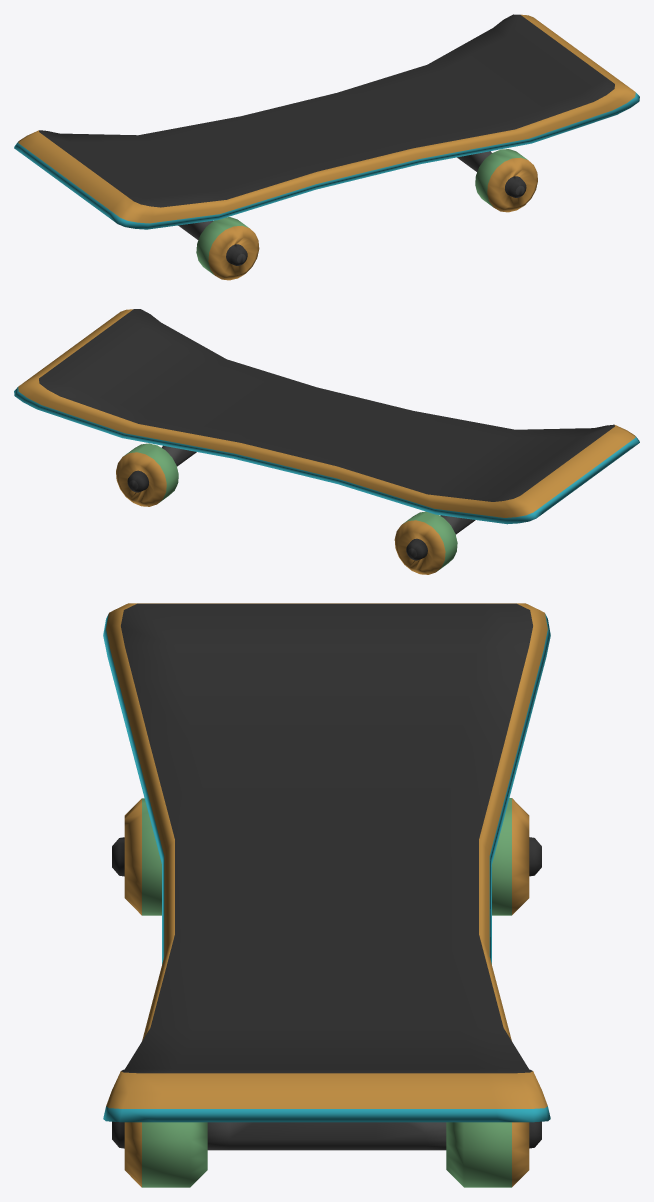
The model's file is SkateboardNew.fbx.
3 renders of one model, top to bottom at view 1: azimuth 30°, elevation 25°; view 2: azimuth 150°, elevation 25°; view 3: azimuth 270°, elevation 25°, orthographic. The views are drawn at different scales.
Parts seen in each view (by area): view 1: Skateboard; view 2: Skateboard; view 3: Skateboard.
Boxes of the visible parts, x1,y1,x2,y2 form: Skateboard: (14, 14, 639, 280); Skateboard: (14, 309, 639, 574); Skateboard: (103, 603, 550, 1187).
Bounding box in the file's own units: 1124 × 214 × 417.
